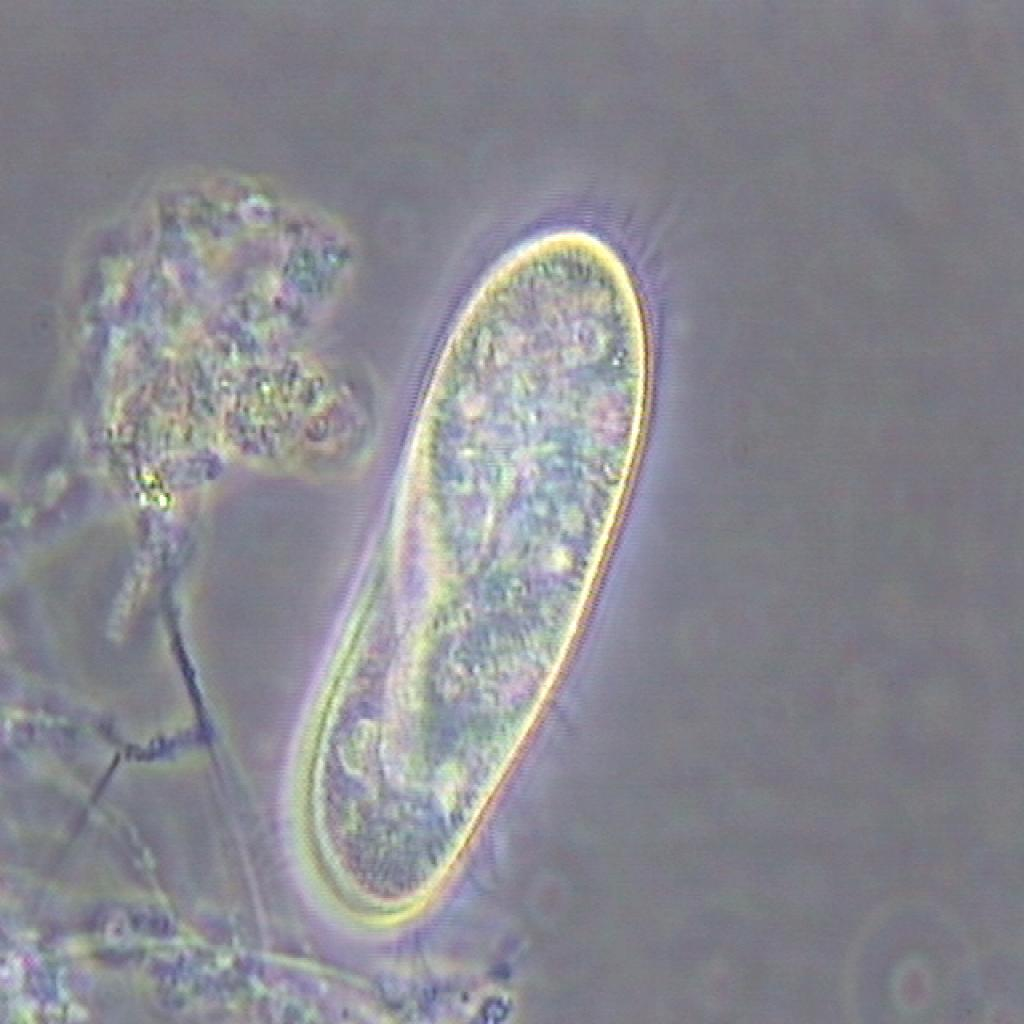Paramecium: (265, 176, 671, 959)
